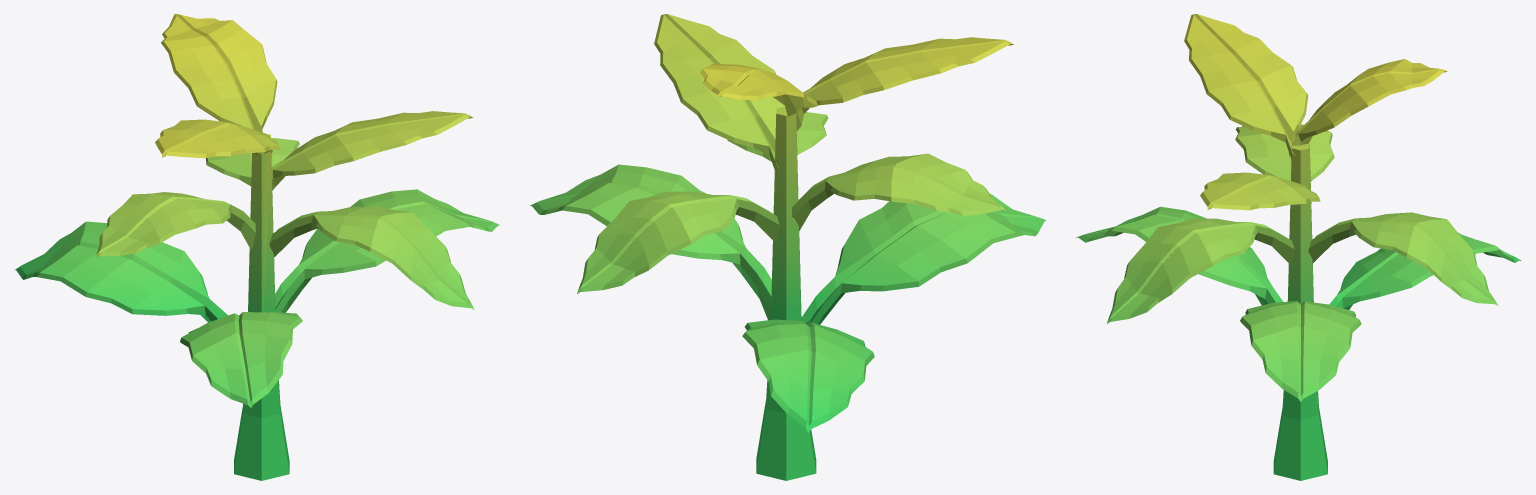
Rendered from tobacco.glb.
3 renders of one model, left to right at view 1: azimuth 30°, elevation 25°; view 2: azimuth 150°, elevation 25°; view 3: azimuth 270°, elevation 25°, orthographic. The views are drawn at different scales.
Visible parts, largest first — view 1: Plane.002; view 2: Plane.002; view 3: Plane.002.
Boxes of the visible parts, x1,y1,x2,y2 form: Plane.002: (14,14,499,480); Plane.002: (530,14,1046,480); Plane.002: (1076,14,1520,480).
Bounding box in the file's own units: 3.04 × 2.76 × 2.85.
Materials: 1 (1 with a texture image).
